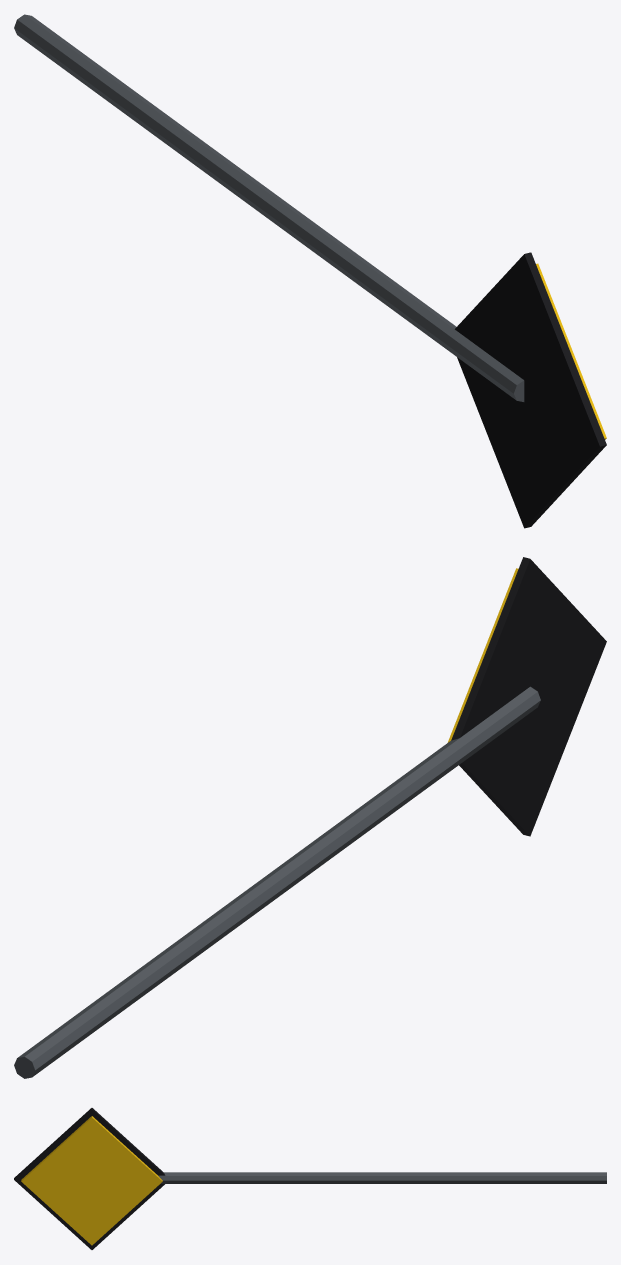
Rendered from sign_us_w11_2.obj.
3 views of the same model, one above another, from view 1: azimuth 30°, elevation 25°; view 2: azimuth 150°, elevation 25°; view 3: azimuth 270°, elevation 25° (orthographic). The views are drawn at different scales.
Parts seen in each view (by area): view 1: sign_us_w11_2_border, sign_us_w11_2_post; view 2: sign_us_w11_2_border, sign_us_w11_2_post; view 3: sign_us_w11_2_field, sign_us_w11_2_post, sign_us_w11_2_border.
Part boxes in pixels (box(x1,y1,x2,y2)): sign_us_w11_2_border: box(455, 252, 606, 528); sign_us_w11_2_post: box(14, 14, 524, 401); sign_us_w11_2_border: box(451, 557, 606, 836); sign_us_w11_2_post: box(14, 686, 540, 1078); sign_us_w11_2_field: box(21, 1116, 162, 1245); sign_us_w11_2_post: box(158, 1172, 606, 1183); sign_us_w11_2_border: box(14, 1108, 165, 1249).
Size of the model in its own units: 0.07 by 0.75 by 2.85.
